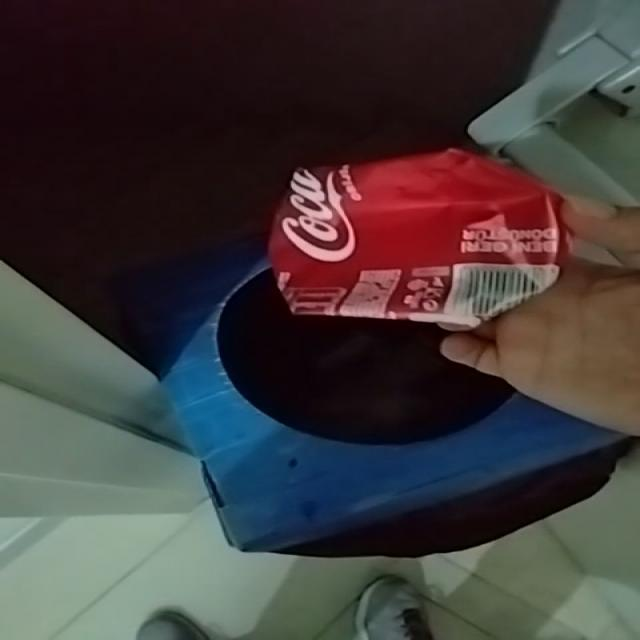Bin: (165, 269, 515, 458)
Metal: (269, 148, 569, 328)
